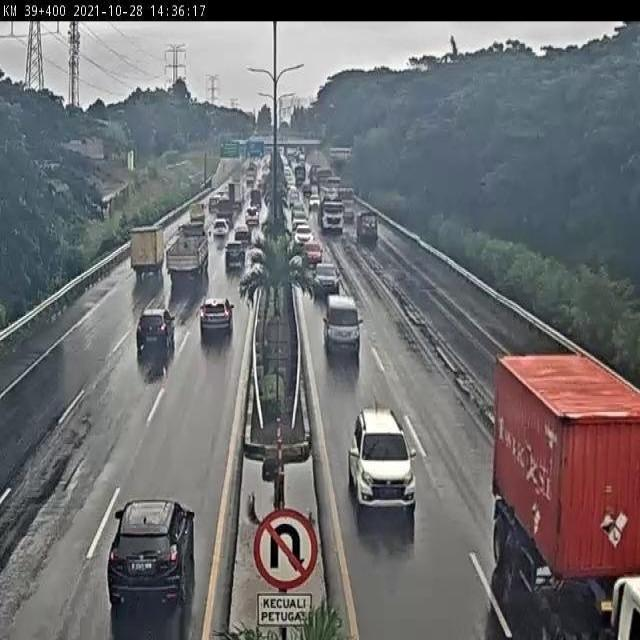Car: (107, 499, 197, 612), (348, 408, 418, 517), (136, 308, 176, 353), (200, 298, 235, 339), (312, 263, 342, 296), (224, 241, 246, 270), (301, 242, 323, 266), (293, 225, 315, 249), (233, 223, 253, 244), (210, 218, 230, 238), (244, 205, 260, 227), (291, 214, 309, 227), (208, 194, 221, 212), (308, 194, 320, 210)
Truck: (488, 347, 640, 640), (166, 221, 212, 282), (129, 224, 165, 279), (317, 196, 345, 232), (356, 209, 379, 244), (335, 182, 356, 220), (227, 180, 244, 210), (215, 198, 234, 221), (189, 202, 208, 224), (328, 175, 341, 197), (250, 188, 263, 207), (295, 166, 306, 187), (245, 170, 257, 184)
Van: (322, 295, 363, 358)
